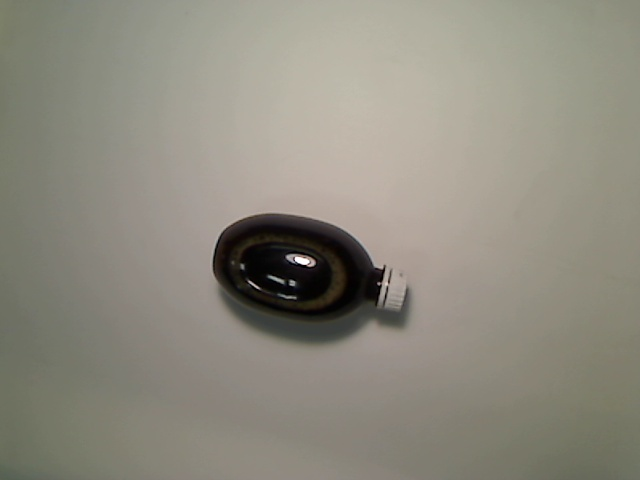plast_bottle: (210, 211, 411, 326)
